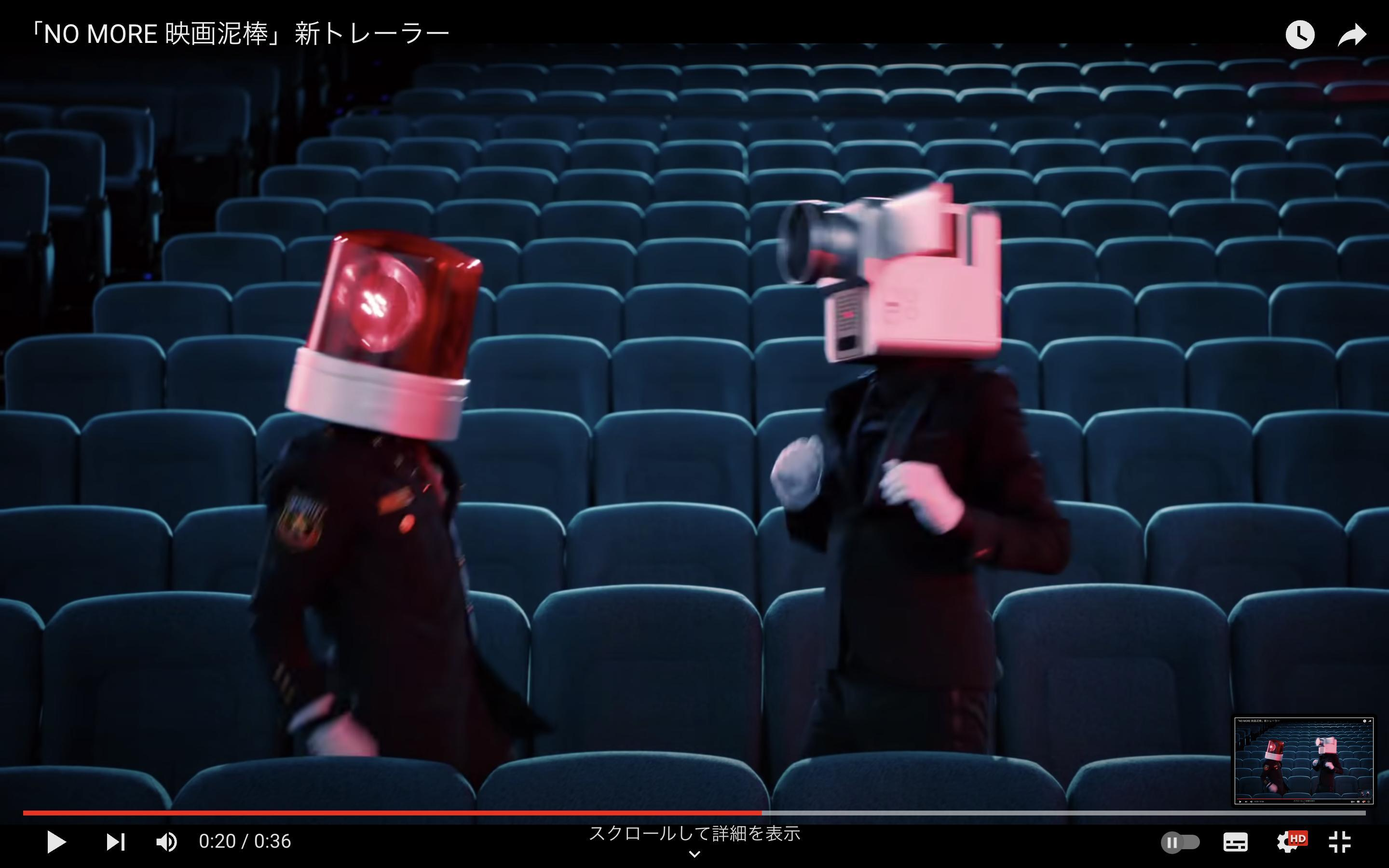no more kid: (765, 170, 1026, 381)
